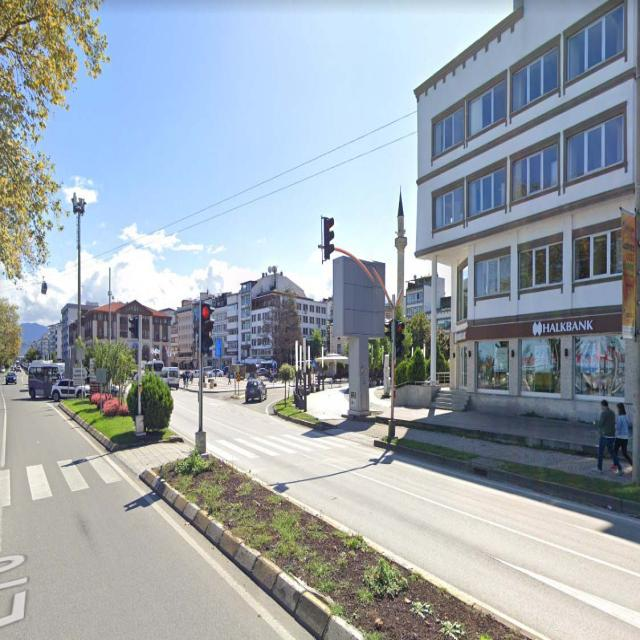kirmizi: (199, 305, 212, 352)
